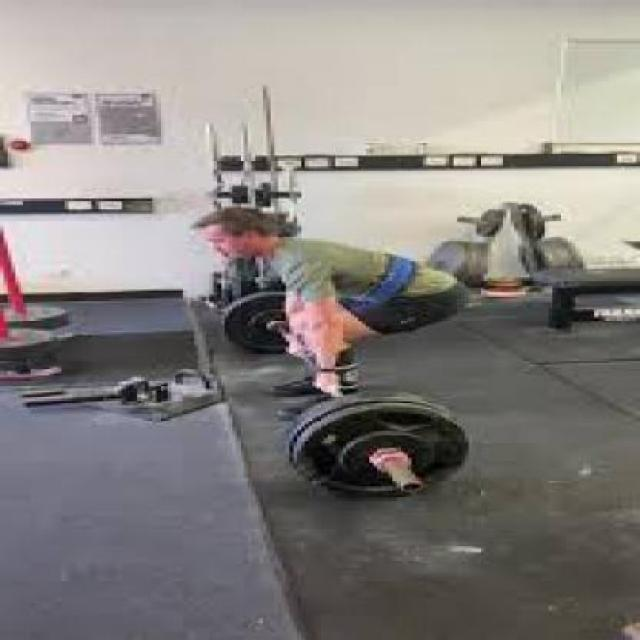Barbell: (394, 476, 429, 496)
